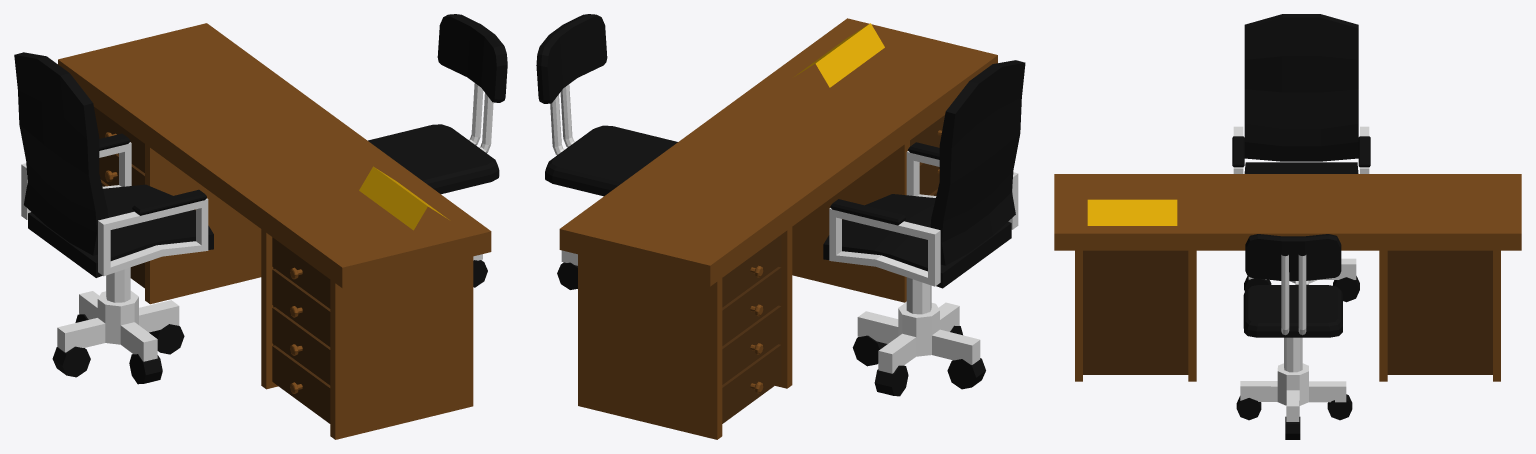
The model's file is Meja Bos.fbx.
3 views of the same model, side by side, from view 1: azimuth 30°, elevation 25°; view 2: azimuth 150°, elevation 25°; view 3: azimuth 270°, elevation 25° (orthographic). The views are drawn at different scales.
Visible parts, largest first — view 1: meja, Plane.006, Vert; view 2: meja, Plane.006, Vert; view 3: meja, Plane.006, Vert.
Boxes of the visible parts, x1,y1,x2,y2 form: meja: (58, 23, 491, 439); Plane.006: (14, 52, 213, 384); Vert: (368, 14, 507, 287); meja: (559, 18, 997, 439); Plane.006: (823, 60, 1025, 396); Vert: (536, 14, 677, 289); meja: (1054, 174, 1521, 381); Plane.006: (1232, 14, 1370, 302); Vert: (1236, 234, 1352, 439).
Size of the model in its own units: 1633 by 1124 by 1839.
